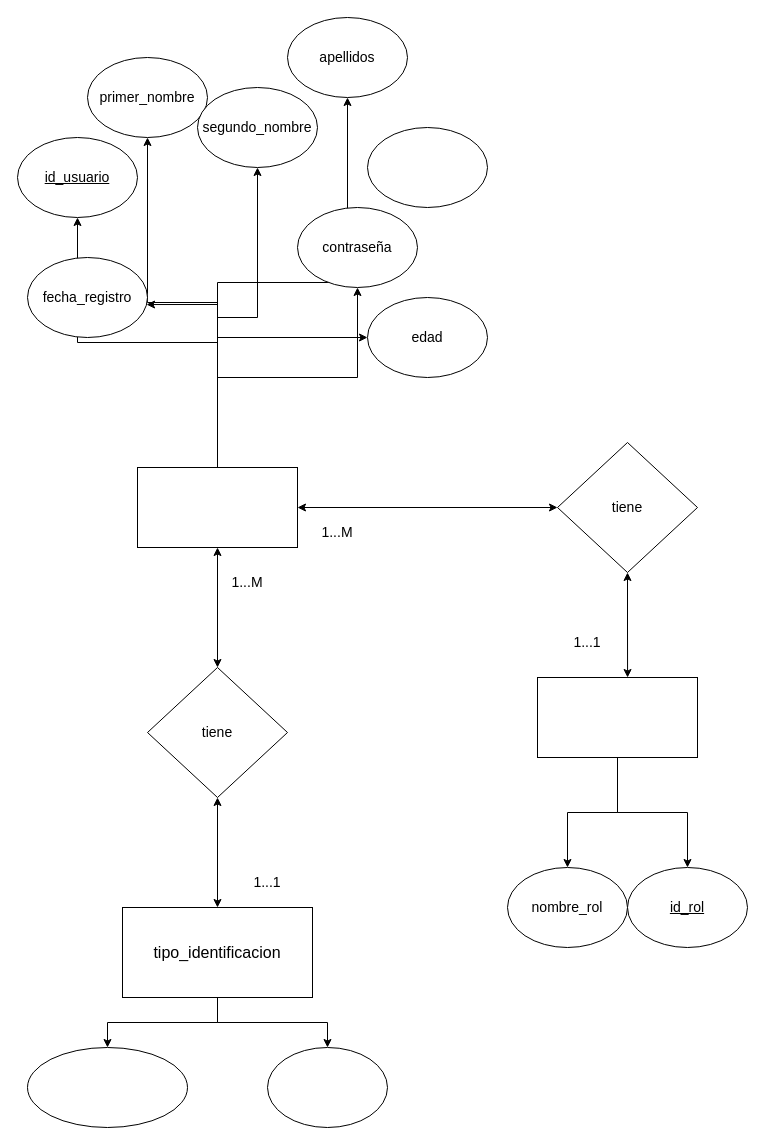
Image size: 765x1145. Some labels were removed from this diagram. The box of each missing label's shape, as (x1, y1, x2, y2) in pixels:
correo: (366, 126, 488, 208)
id_tipo_identificacion: (26, 1046, 188, 1128)
nombre_tipo: (266, 1046, 388, 1128)
Rol: (536, 676, 698, 758)
Usuario: (136, 466, 298, 548)
